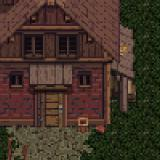Interaction: (0, 142, 32, 160)
Obstacle: (0, 0, 160, 159)
